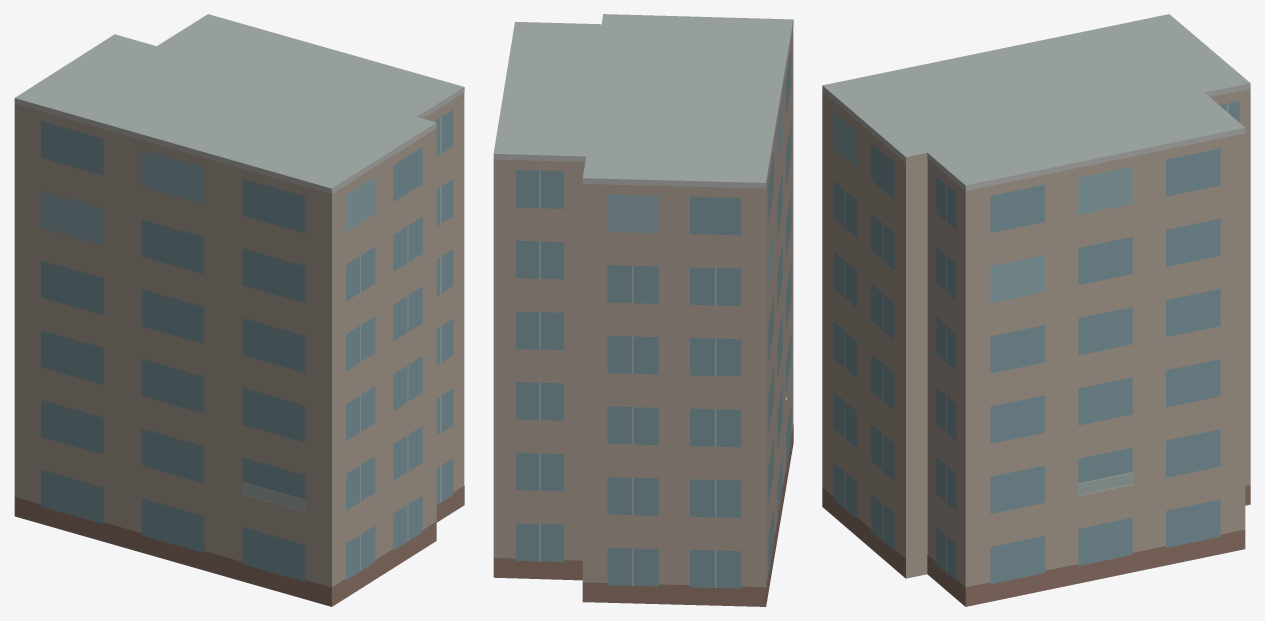
Rendered from survey-upis-32967885.glb.
The picture shows the model from 3 angles, left to right: view 1: azimuth 30°, elevation 25°; view 2: azimuth 150°, elevation 25°; view 3: azimuth 270°, elevation 25°; orthographic projection.
Visible parts, largest first — view 1: survey-upis-32967885.tmp; view 2: survey-upis-32967885.tmp; view 3: survey-upis-32967885.tmp.
Part boxes in pixels (x1=…): survey-upis-32967885.tmp: x1=14, y1=14, x2=464, y2=606; survey-upis-32967885.tmp: x1=493, y1=14, x2=793, y2=606; survey-upis-32967885.tmp: x1=822, y1=14, x2=1250, y2=606.
Bounding box in the file's own units: 15.98 × 18.3 × 16.86.
